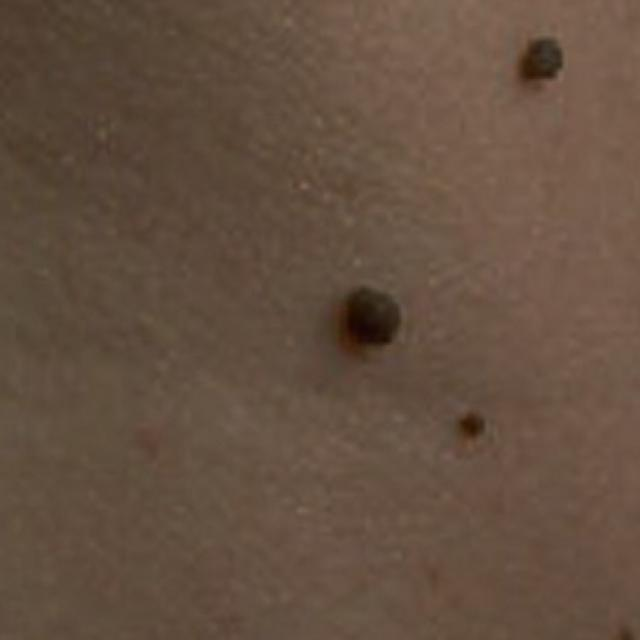wart: (314, 268, 432, 364), (504, 19, 584, 98)
